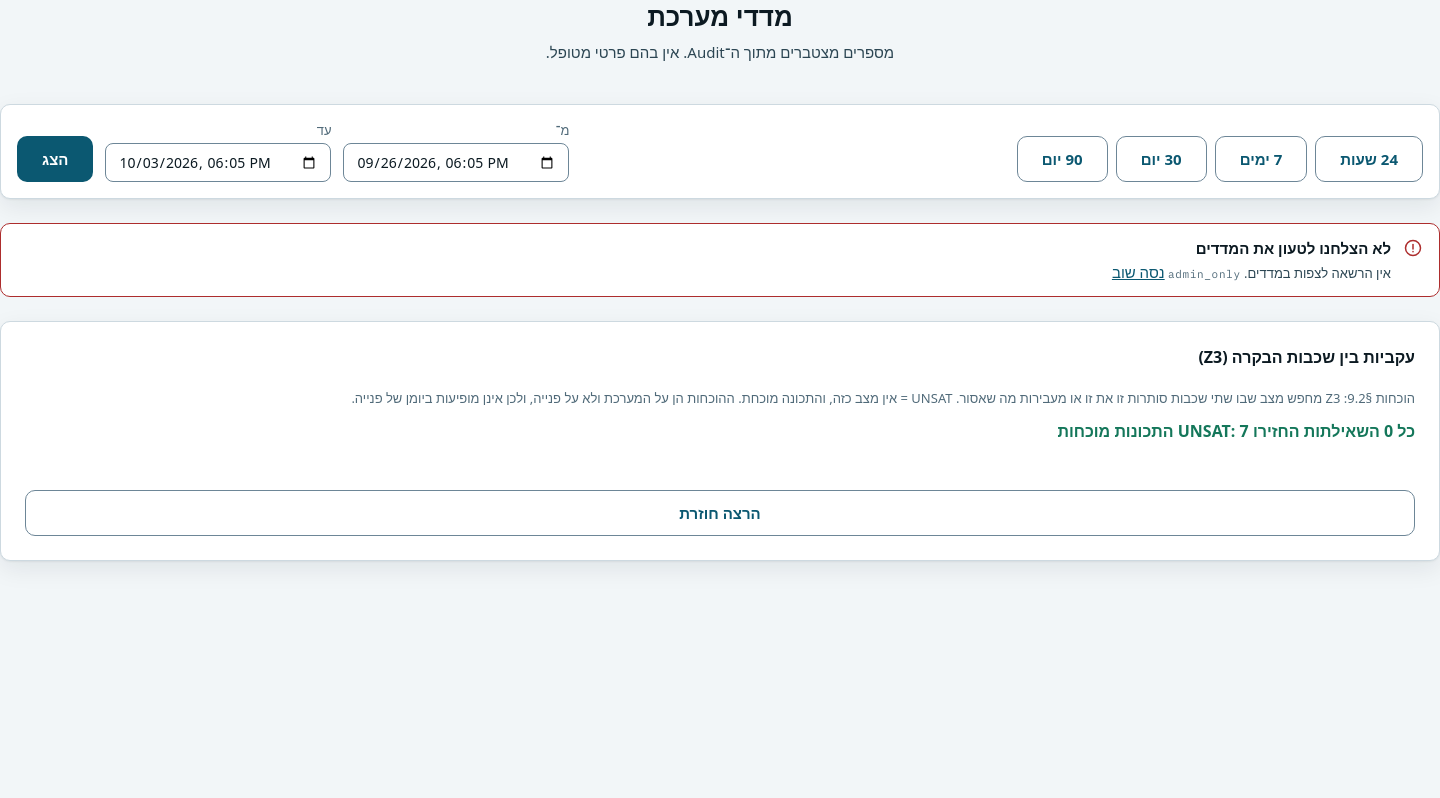
Test: Metrics › explains a refusal, shows its code and retries
Check: the message shows "אין הרשאה לצפות במדדים.", box [1244, 264, 1391, 282]
Check: the message shows "admin_only", box [1168, 267, 1241, 281]
Click the button "נסה שוב" at (1138, 272), box [1112, 262, 1165, 282]
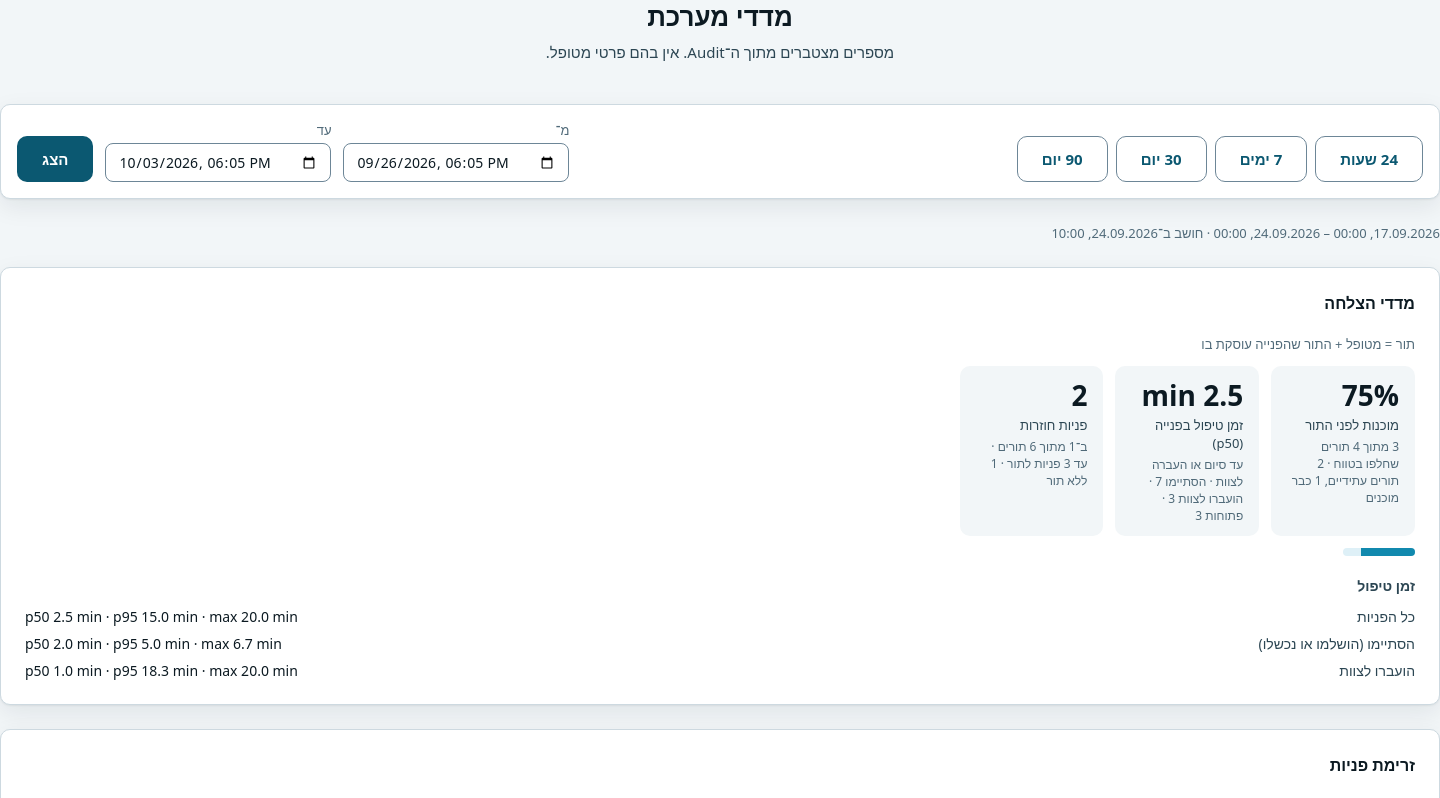
Check: the heading "זרימת פניות" is shown, box [1330, 754, 1415, 776]
Check: the message "לא הצלחנו לטעון את המדדים אין הרשאה לצפות במדדים. admin_only נסה שוב" is gone
